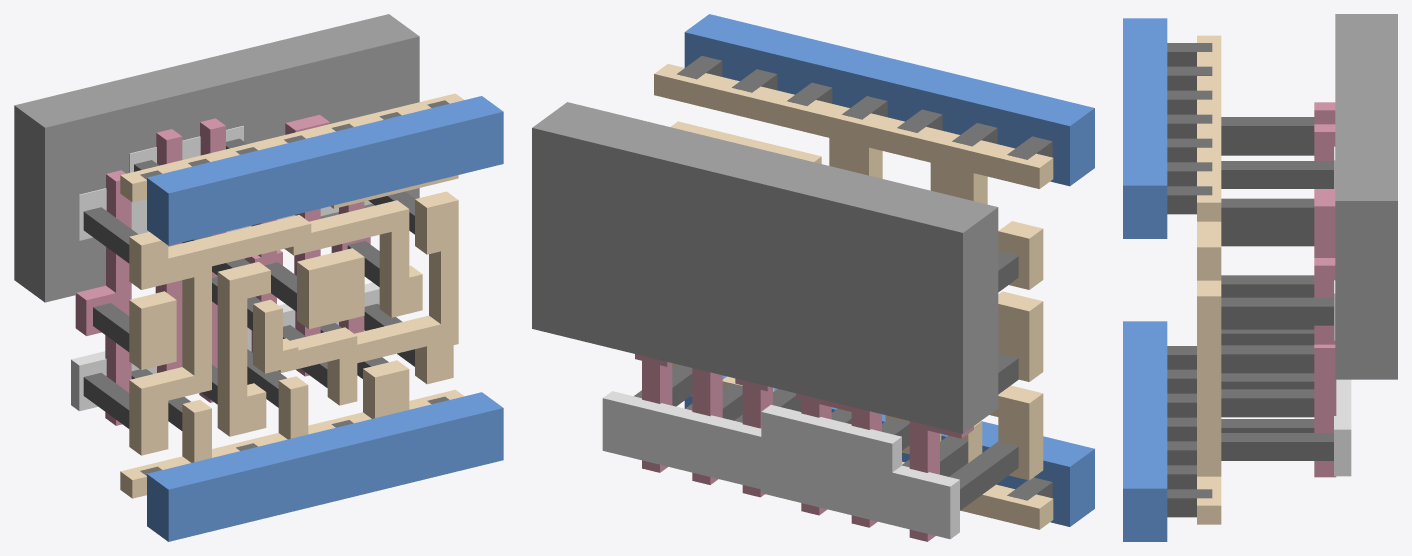
File: sky130_fd_sc_hd__or3b_2.gds.gltf
3 renders of one model, left to right at view 1: azimuth 30°, elevation 25°; view 2: azimuth 150°, elevation 25°; view 3: azimuth 270°, elevation 25°, orthographic. The views are drawn at different scales.
Visible parts, largest first — view 1: sky130_fd_sc_hd__or3b_2_li1, sky130_fd_sc_hd__or3b_2_met1, sky130_fd_sc_hd__or3b_2_nwell, sky130_fd_sc_hd__or3b_2_licon, sky130_fd_sc_hd__or3b_2_poly, sky130_fd_sc_hd__or3b_2_diff, sky130_fd_sc_hd__or3b_2_mcon; view 2: sky130_fd_sc_hd__or3b_2_nwell, sky130_fd_sc_hd__or3b_2_li1, sky130_fd_sc_hd__or3b_2_met1, sky130_fd_sc_hd__or3b_2_diff, sky130_fd_sc_hd__or3b_2_poly, sky130_fd_sc_hd__or3b_2_licon, sky130_fd_sc_hd__or3b_2_mcon; view 3: sky130_fd_sc_hd__or3b_2_licon, sky130_fd_sc_hd__or3b_2_nwell, sky130_fd_sc_hd__or3b_2_met1, sky130_fd_sc_hd__or3b_2_mcon, sky130_fd_sc_hd__or3b_2_li1, sky130_fd_sc_hd__or3b_2_poly, sky130_fd_sc_hd__or3b_2_diff.
Boxes of the visible parts, x1=… form: sky130_fd_sc_hd__or3b_2_li1: x1=120, y1=93, x2=463, y2=498; sky130_fd_sc_hd__or3b_2_met1: x1=147, y1=96, x2=503, y2=541; sky130_fd_sc_hd__or3b_2_nwell: x1=14, y1=14, x2=419, y2=302; sky130_fd_sc_hd__or3b_2_licon: x1=83, y1=138, x2=414, y2=430; sky130_fd_sc_hd__or3b_2_poly: x1=75, y1=114, x2=370, y2=425; sky130_fd_sc_hd__or3b_2_diff: x1=71, y1=126, x2=379, y2=411; sky130_fd_sc_hd__or3b_2_mcon: x1=140, y1=100, x2=449, y2=475; sky130_fd_sc_hd__or3b_2_nwell: x1=532, y1=102, x2=998, y2=433; sky130_fd_sc_hd__or3b_2_li1: x1=654, y1=64, x2=1053, y2=529; sky130_fd_sc_hd__or3b_2_met1: x1=684, y1=14, x2=1094, y2=526; sky130_fd_sc_hd__or3b_2_diff: x1=602, y1=391, x2=959, y2=539; sky130_fd_sc_hd__or3b_2_poly: x1=635, y1=354, x2=973, y2=541; sky130_fd_sc_hd__or3b_2_licon: x1=634, y1=251, x2=1018, y2=510; sky130_fd_sc_hd__or3b_2_mcon: x1=677, y1=56, x2=1052, y2=500; sky130_fd_sc_hd__or3b_2_licon: x1=1221, y1=117, x2=1333, y2=460; sky130_fd_sc_hd__or3b_2_nwell: x1=1335, y1=14, x2=1397, y2=379; sky130_fd_sc_hd__or3b_2_met1: x1=1123, y1=18, x2=1167, y2=541; sky130_fd_sc_hd__or3b_2_mcon: x1=1167, y1=43, x2=1212, y2=517; sky130_fd_sc_hd__or3b_2_li1: x1=1197, y1=35, x2=1221, y2=524; sky130_fd_sc_hd__or3b_2_poly: x1=1314, y1=102, x2=1336, y2=477; sky130_fd_sc_hd__or3b_2_diff: x1=1334, y1=146, x2=1351, y2=476.
Bounding box in the file's own units: 3.6 × 3.2 × 2.24.
